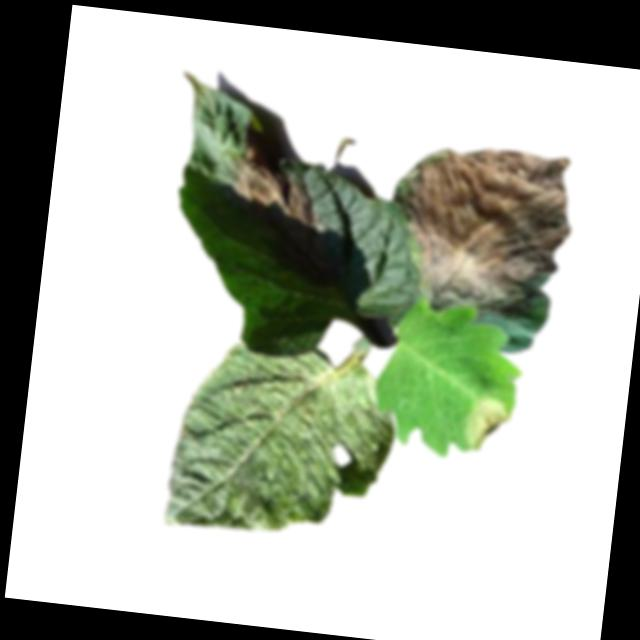Late_blight: (391, 136, 579, 323), (227, 120, 327, 227), (461, 394, 513, 455)
